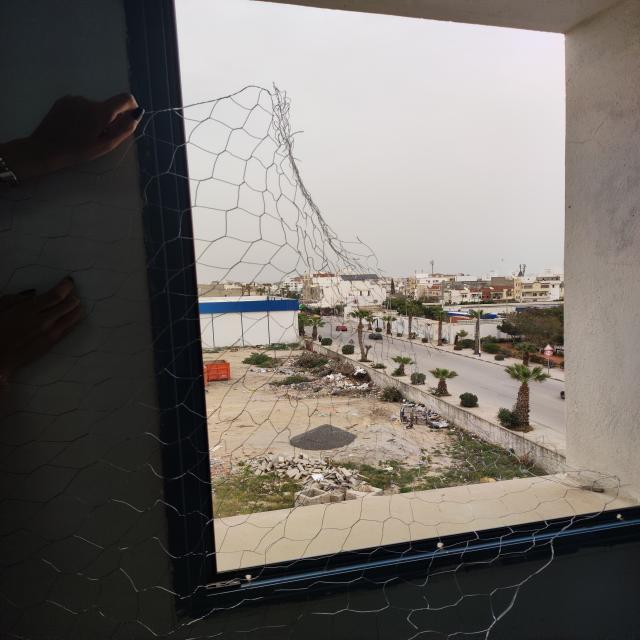fence line: (289, 106, 568, 360)
